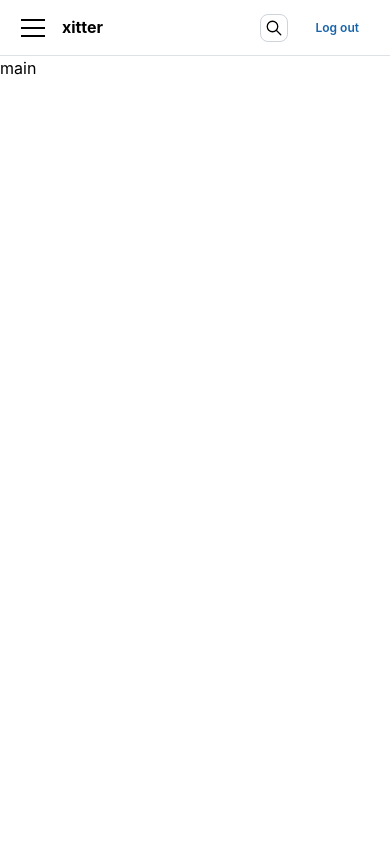
Test: AppShellFrame (#39 navigation polish) › carries the identity row in the drawer when the header drops the handle (#151)
Click the button with test id "nav-burger": {"x": 33, "y": 28} [16, 10, 50, 44]
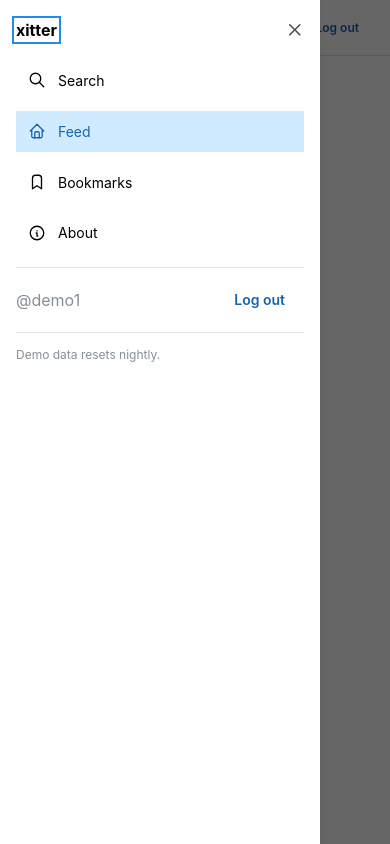
Now the link with test id "drawer-username" reads "@demo1", box [16, 288, 80, 313]
